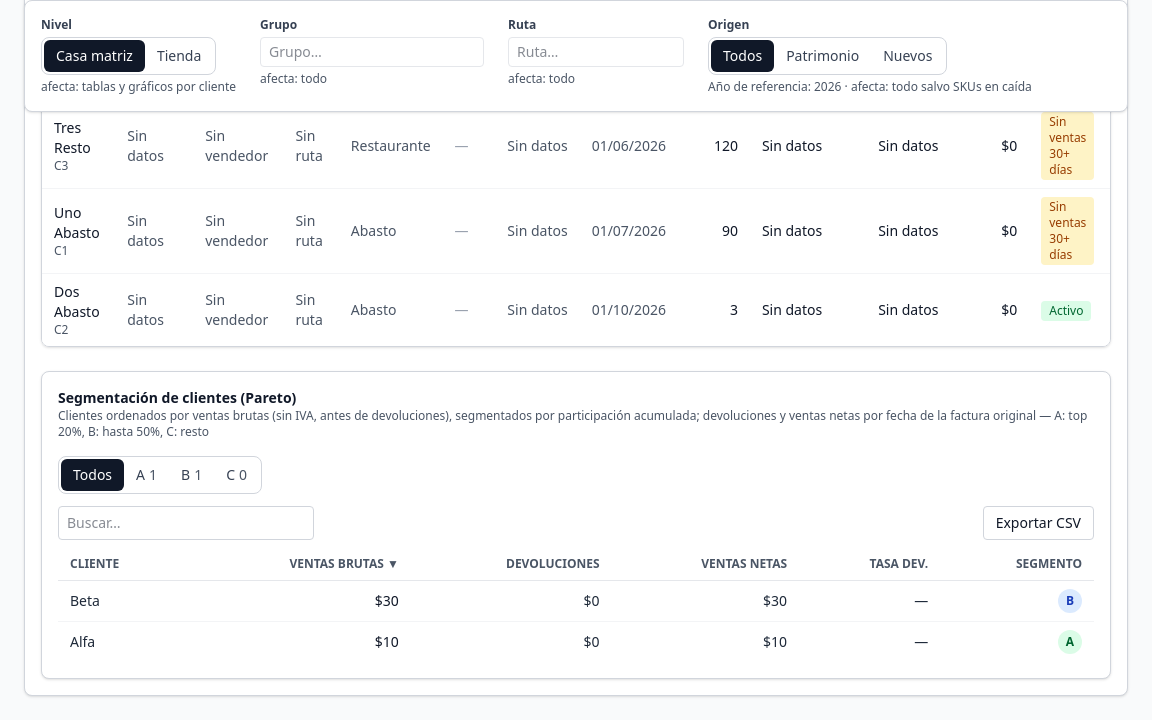
Scenario: TabClientes › Pareto search filters rows
This screenshot has width=1152, height=720.
(page scrolled)
Expected: the text "Beta" is shown, [58,580,183,622]
Type "alf" into the search field.
click(186, 523); type("alf")  # box [58,506,314,540]
(page scrolled)
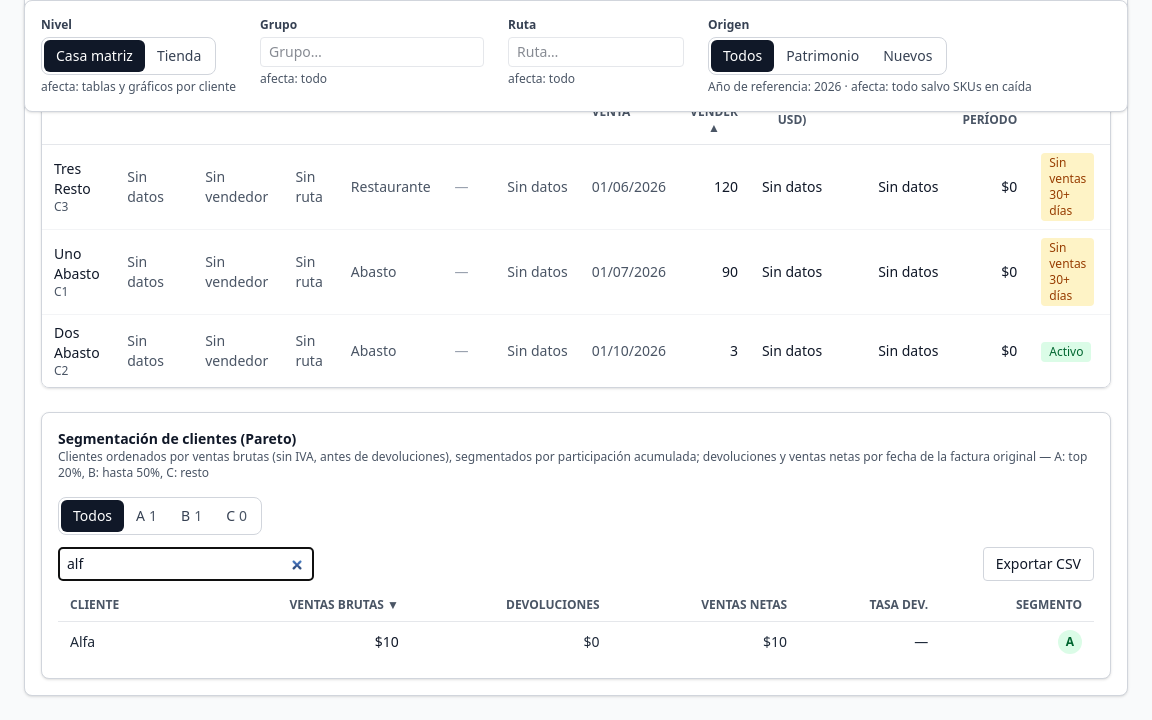
Expected: the text "Alfa" is shown, [58,622,183,662]
Expected: the text "Beta" is gone
